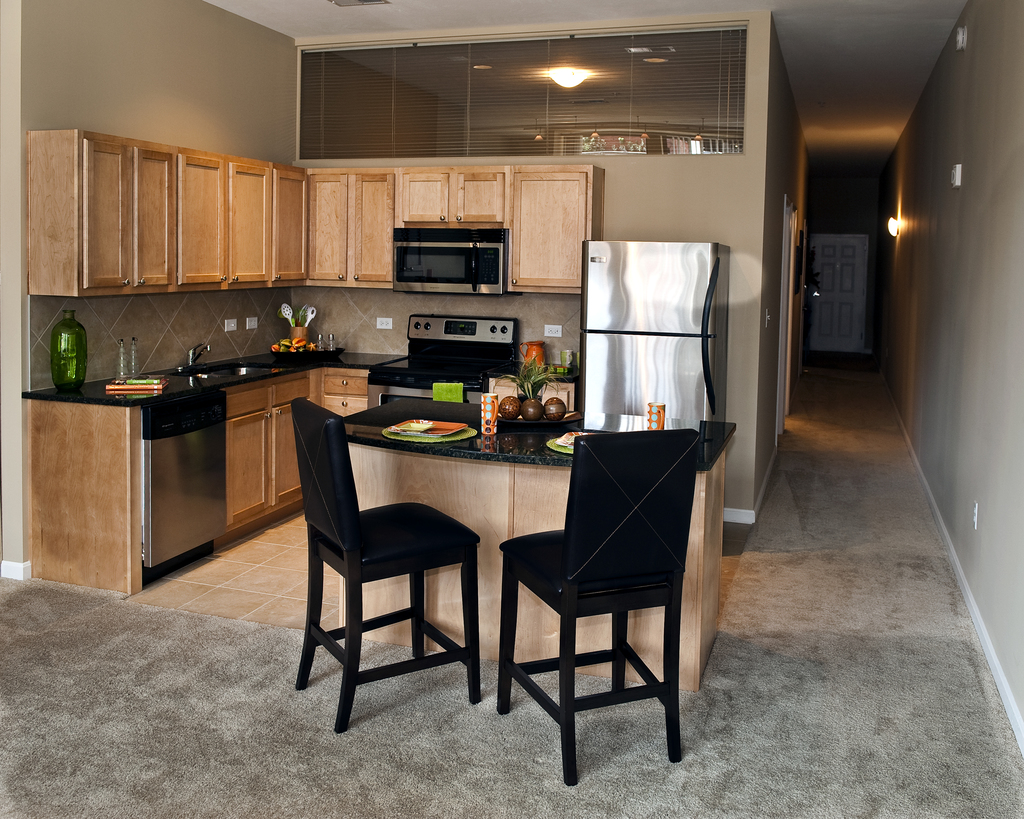cabinet door: (510, 168, 582, 289), (81, 140, 129, 289), (132, 147, 174, 289), (180, 160, 227, 283), (227, 168, 270, 283), (308, 171, 353, 278), (351, 179, 393, 282), (274, 172, 308, 284), (226, 415, 264, 512), (271, 398, 298, 502), (402, 173, 450, 224), (456, 172, 498, 221), (327, 374, 363, 395)
door: (812, 237, 856, 345)
handle: (700, 278, 721, 400), (274, 396, 287, 427), (347, 267, 363, 292), (257, 404, 271, 430), (230, 266, 242, 292), (435, 209, 449, 230), (214, 268, 228, 289), (122, 270, 132, 293), (274, 271, 285, 291), (339, 396, 350, 413), (138, 272, 148, 289), (339, 377, 351, 391), (510, 275, 519, 292)
refrigerator door: (590, 245, 717, 336), (587, 337, 715, 412)
